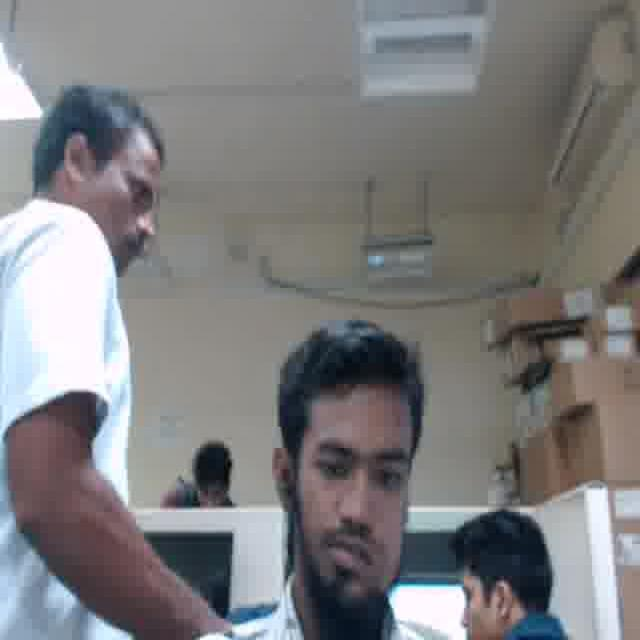Engaged: (294, 389, 414, 596)
